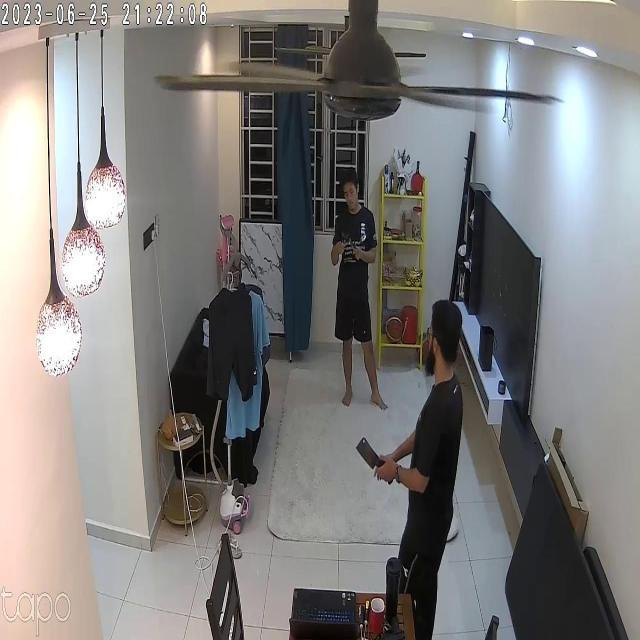Knife: (349, 428, 394, 494)
